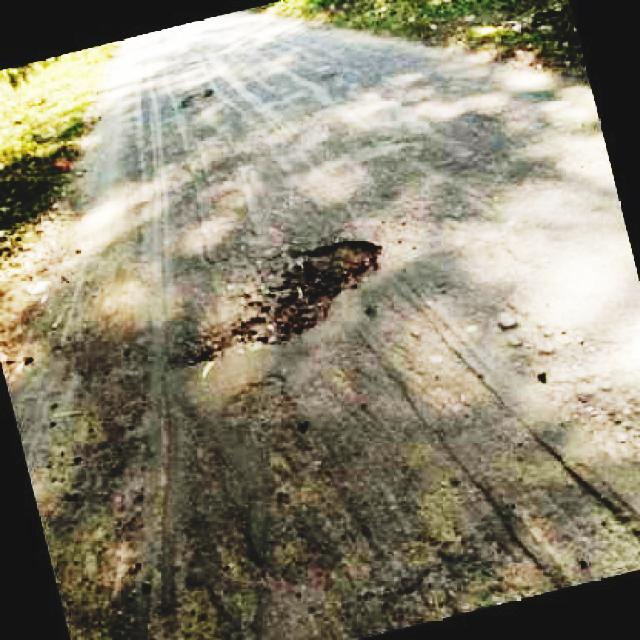pothole: (228, 235, 389, 354)
